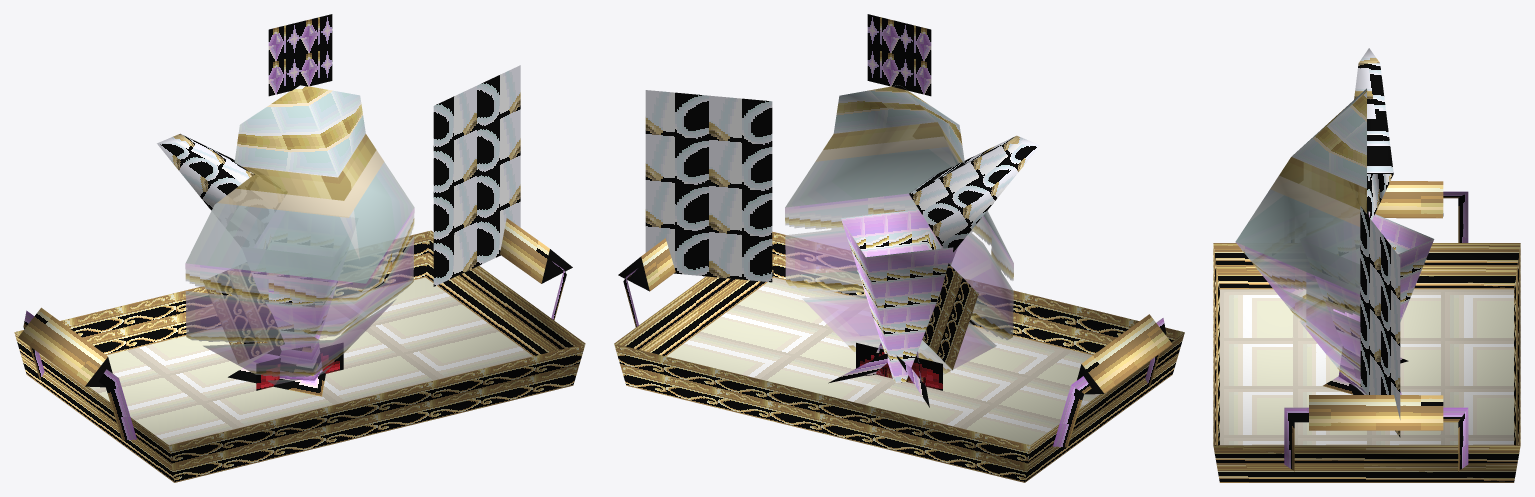
Rendered from 5642ucc_m_tea.gltf.
3 views of the same model, side by side, from view 1: azimuth 30°, elevation 25°; view 2: azimuth 150°, elevation 25°; view 3: azimuth 270°, elevation 25° (orthographic).
Parts seen in each view (by area): view 1: 5642ucc_m_tea; view 2: 5642ucc_m_tea; view 3: 5642ucc_m_tea.
Part boxes in pixels (x1,y1,x2,y2): 5642ucc_m_tea: [14, 14, 585, 482]; 5642ucc_m_tea: [614, 14, 1184, 482]; 5642ucc_m_tea: [1213, 48, 1520, 482].
Bounding box in the file's own units: 0.9551 × 0.79 × 0.5234.
9 materials, 9 textured.
